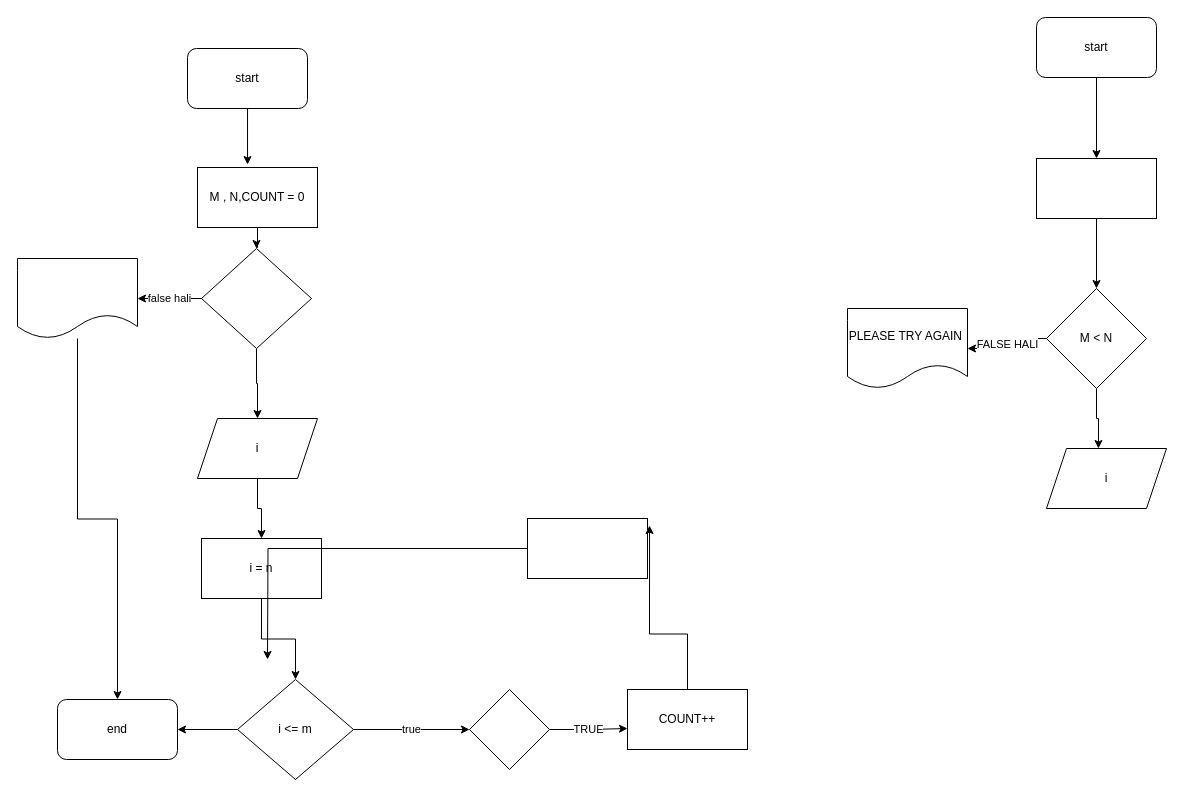
The diagram is 1184 pixels wide and 797 high, and some of its shapes have lost their labels. Here are the shapes that lost their labels. From the top down, the centre of each, then its label:
point 1096,188: M,N
point 77,298: please try again'
point 256,298: n < m
point 587,548: i++
point 509,729: N%2==0 && N> 0
